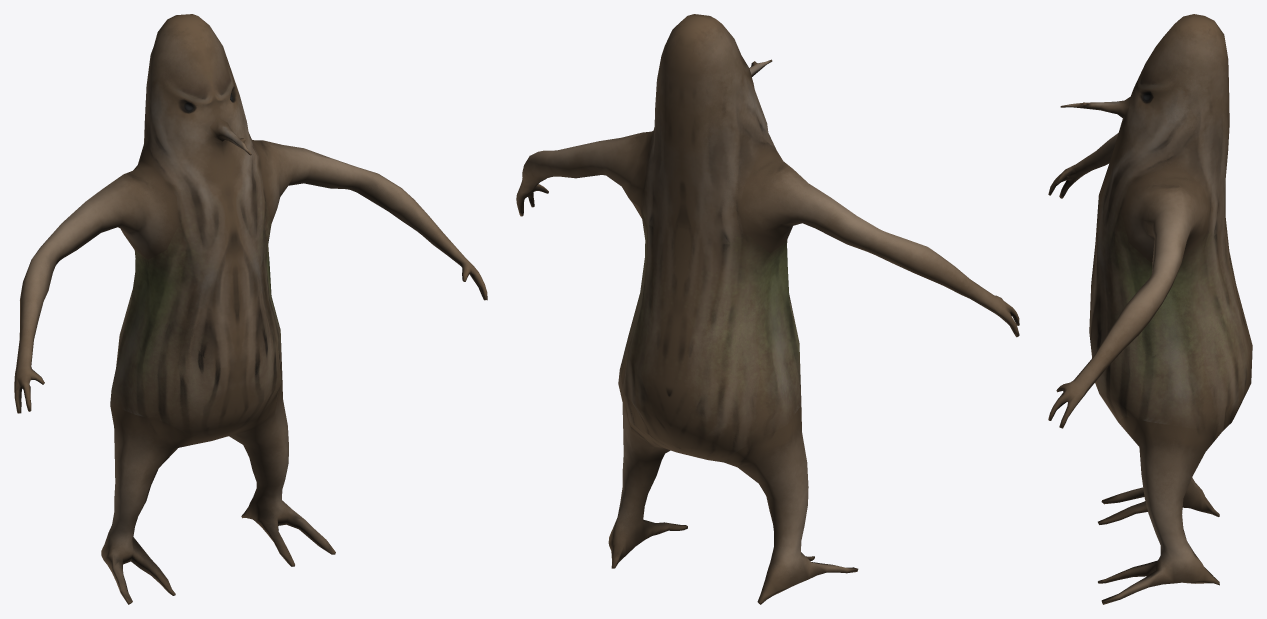
File: tree_char.fbx
3 views of the same model, side by side, from view 1: azimuth 30°, elevation 25°; view 2: azimuth 150°, elevation 25°; view 3: azimuth 270°, elevation 25° (orthographic). The views are drawn at different scales.
Parts seen in each view (by area): view 1: Plane; view 2: Plane; view 3: Plane.
Boxes of the visible parts, x1,y1,x2,y2 form: Plane: (14,14,487,604); Plane: (516,14,1019,604); Plane: (1048,14,1252,604).
Bounding box in the file's own units: 897 × 965 × 334.
